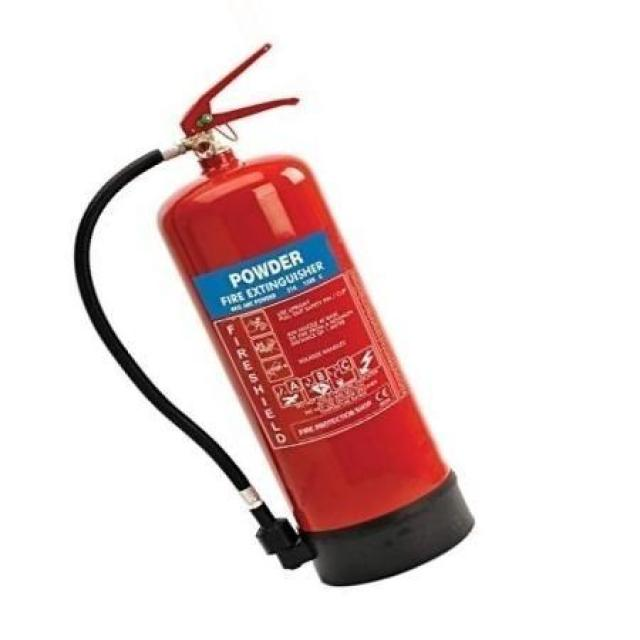fire_extinguisher: (65, 38, 481, 591)
